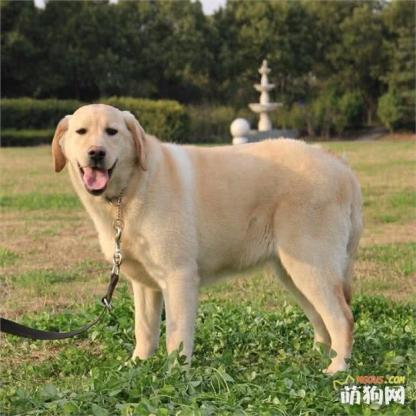dog: (50, 102, 360, 372)
